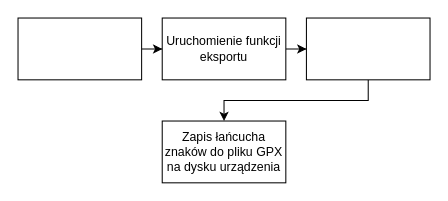
Some shapes in this 448 by 201 pixel diagram are drawn without their labels. Here are the shapes that lost their labels. From the top down, the centre of each, then its label:
At [79,48]: "Wybór aktywności do eksportu".
At [367,48]: "Parsowanie obiektu Activity na łańcuch znaków GPX (gpx-builder)".
